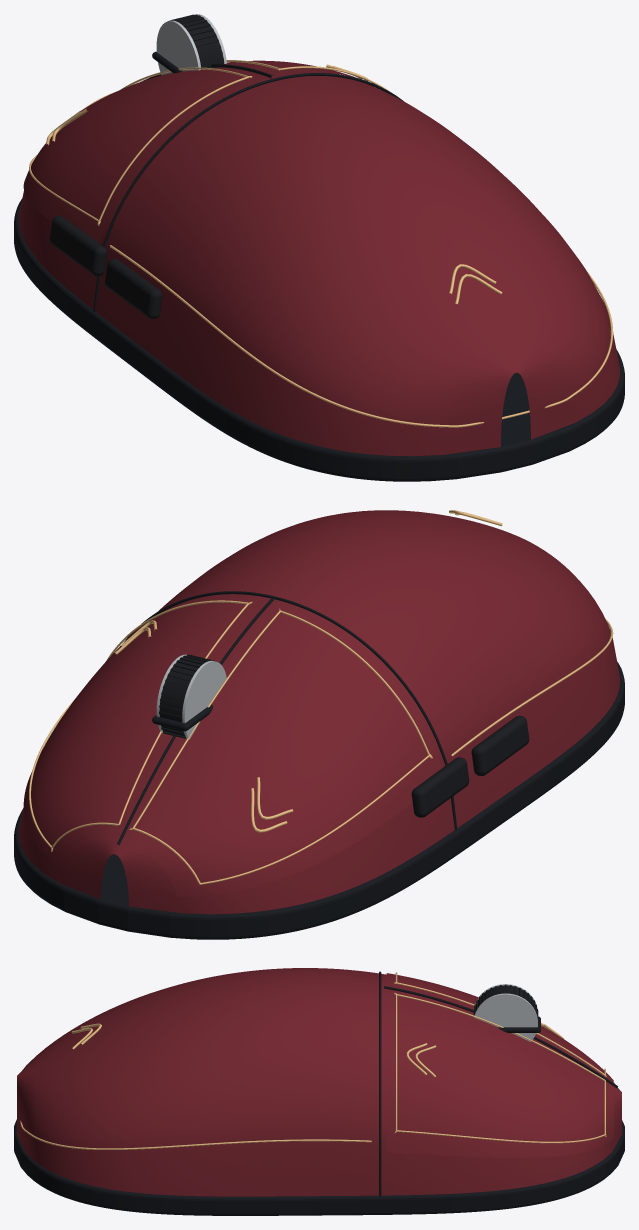
The model's file is formkey-mouse-wine-red.glb.
The picture shows the model from 3 angles, top to bottom: view 1: azimuth 30°, elevation 25°; view 2: azimuth 150°, elevation 25°; view 3: azimuth 270°, elevation 25°; orthographic projection. The views are drawn at different scales.
Parts seen in each view (by area): view 1: Sculpted upper shell, Lower chassis, Left main button, Side thumb button (×2), Painted outline (×2), Wheel silver rim, Palm and button seam, Right main button, Rubber scroll wheel; view 2: Sculpted upper shell, Left main button, Right main button, Lower chassis, Painted outline (×3), Side thumb button (×2), Wheel silver rim, Palm and button seam, Rubber scroll wheel, Split button seam; view 3: Sculpted upper shell, Right main button, Lower chassis, Painted outline (×3), Left main button, Wheel silver rim, Palm and button seam, Split button seam, Rubber scroll wheel.
Part boxes in pixels (x1,y1,x2,y2): Sculpted upper shell: (19, 65, 619, 456); Lower chassis: (14, 198, 624, 481); Left main button: (23, 69, 262, 243); Side thumb button (×2): (49, 216, 162, 318); Painted outline (×2): (29, 67, 613, 427); Wheel silver rim: (156, 20, 200, 75); Palm and button seam: (93, 73, 403, 311); Right main button: (224, 60, 356, 77); Rubber scroll wheel: (176, 17, 223, 67); Sculpted upper shell: (19, 510, 619, 914); Left main button: (123, 604, 441, 896); Right main button: (23, 596, 262, 868); Lower chassis: (14, 661, 624, 939); Painted outline (×3): (29, 600, 613, 884); Side thumb button (×2): (411, 715, 529, 817); Wheel silver rim: (182, 660, 226, 739); Palm and button seam: (124, 591, 457, 830); Rubber scroll wheel: (159, 657, 207, 736); Split button seam: (117, 598, 273, 845); Sculpted upper shell: (17, 968, 621, 1196); Right main button: (386, 991, 613, 1157); Lower chassis: (14, 1119, 624, 1215); Painted outline (×3): (20, 972, 606, 1149); Left main button: (386, 973, 613, 1082); Wheel silver rim: (474, 993, 537, 1041); Palm and button seam: (379, 971, 381, 1196); Split button seam: (384, 986, 617, 1087); Rubber scroll wheel: (476, 985, 535, 1010).
Bounding box in the file's own units: 0.0663 × 0.0373 × 0.123.
